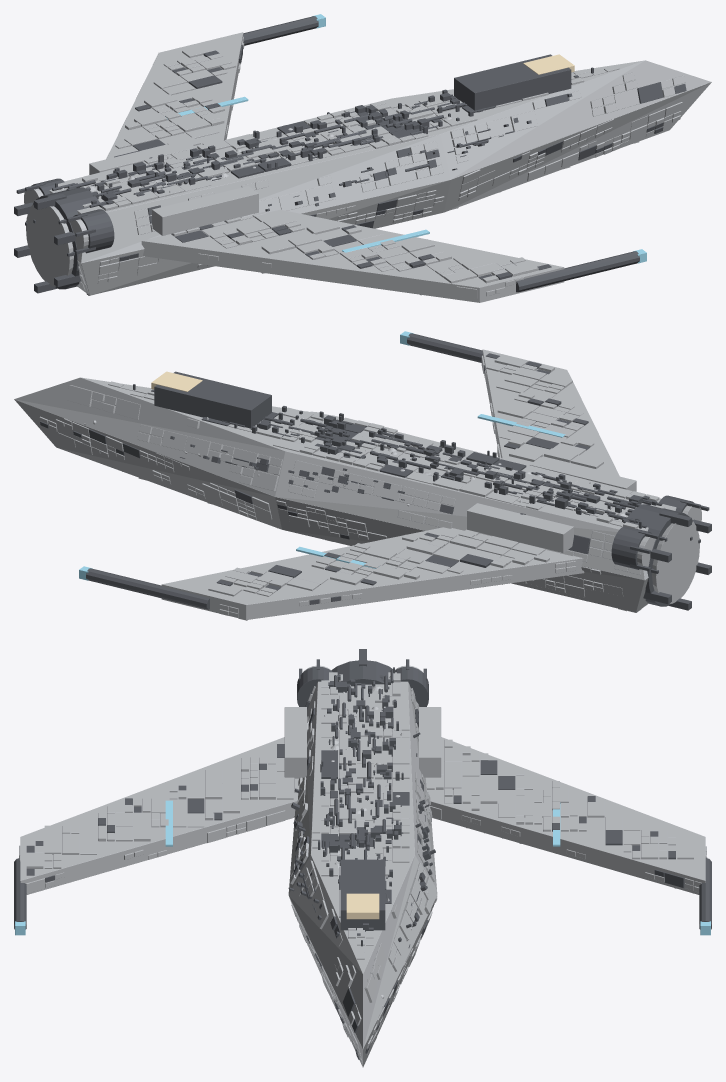
File: SM_TitheInterceptor.fbx
3 renders of one model, top to bottom at view 1: azimuth 30°, elevation 25°; view 2: azimuth 150°, elevation 25°; view 3: azimuth 270°, elevation 25°, orthographic. The views are drawn at different scales.
Parts seen in each view (by area): view 1: SM_TitheInterceptor; view 2: SM_TitheInterceptor; view 3: SM_TitheInterceptor.
Boxes of the visible parts, x1,y1,x2,y2 form: SM_TitheInterceptor: [14, 14, 711, 302]; SM_TitheInterceptor: [14, 331, 711, 620]; SM_TitheInterceptor: [14, 649, 711, 1067].
Size of the model in its own units: 112 by 16.24 by 93.71.
